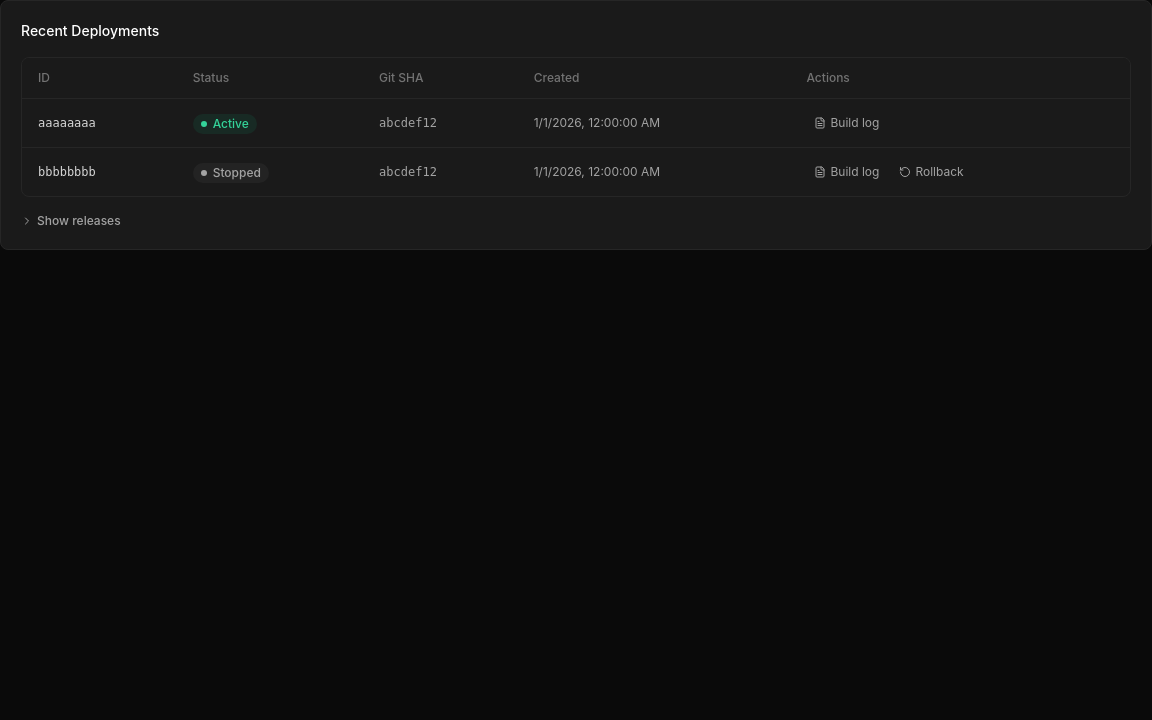
Test: DeploymentsCard › expands one deployment row at a time to show its build log
expect the text "aaaaaaaa" is shown: met, box [22,98,177,148]
Click the button "Build log" in the row of "aaaaaaaa": (847, 123) [806,111,888,135]
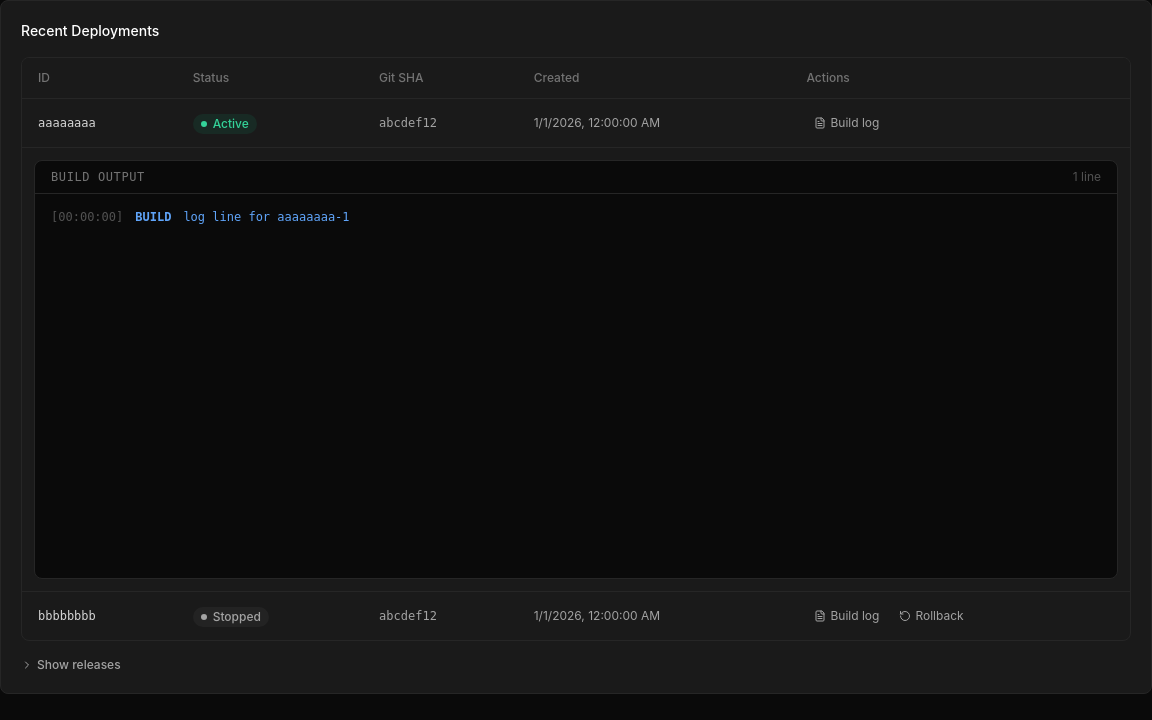
expect the text "log line for aaaaaaaa-1" is shown: met, box [183,208,350,228]
Click the button "Build log" in the row of "bbbbbbbb": (847, 616) [806,604,888,628]
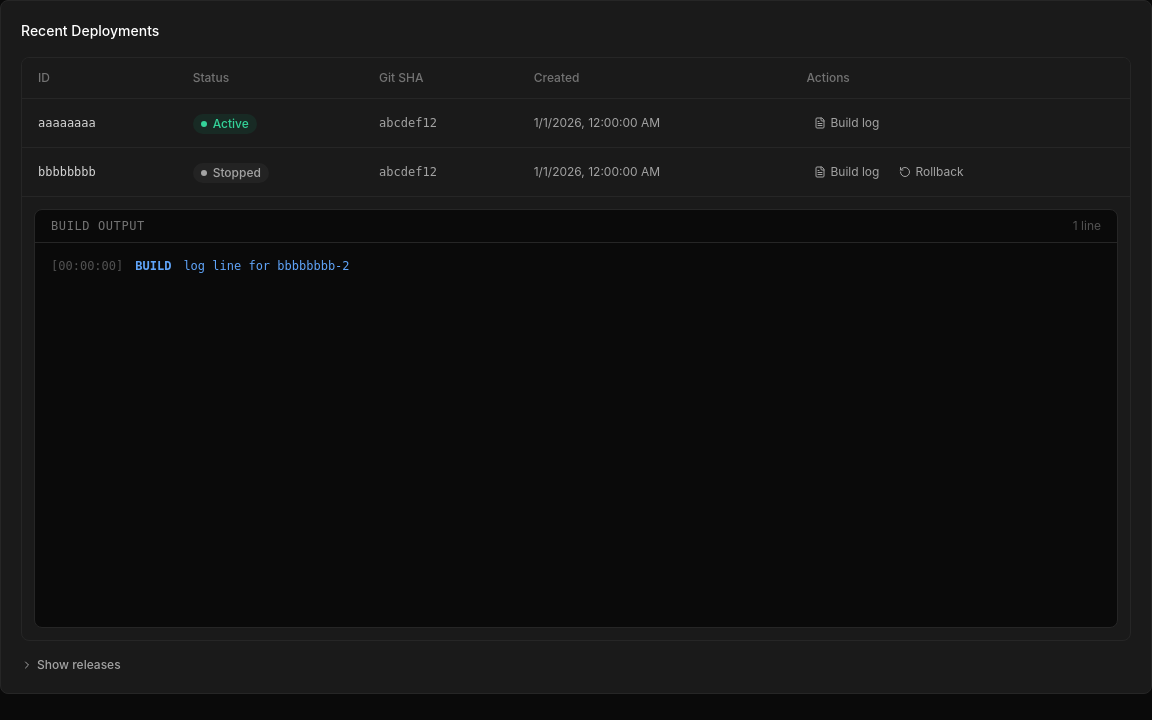
expect the text "log line for bbbbbbbb-2" is shown: met, box [183,257,350,276]
expect the text "log line for aaaaaaaa-1" is gone: met
Click the button "Build log" in the row of "stopped": (847, 172) [806,160,888,184]
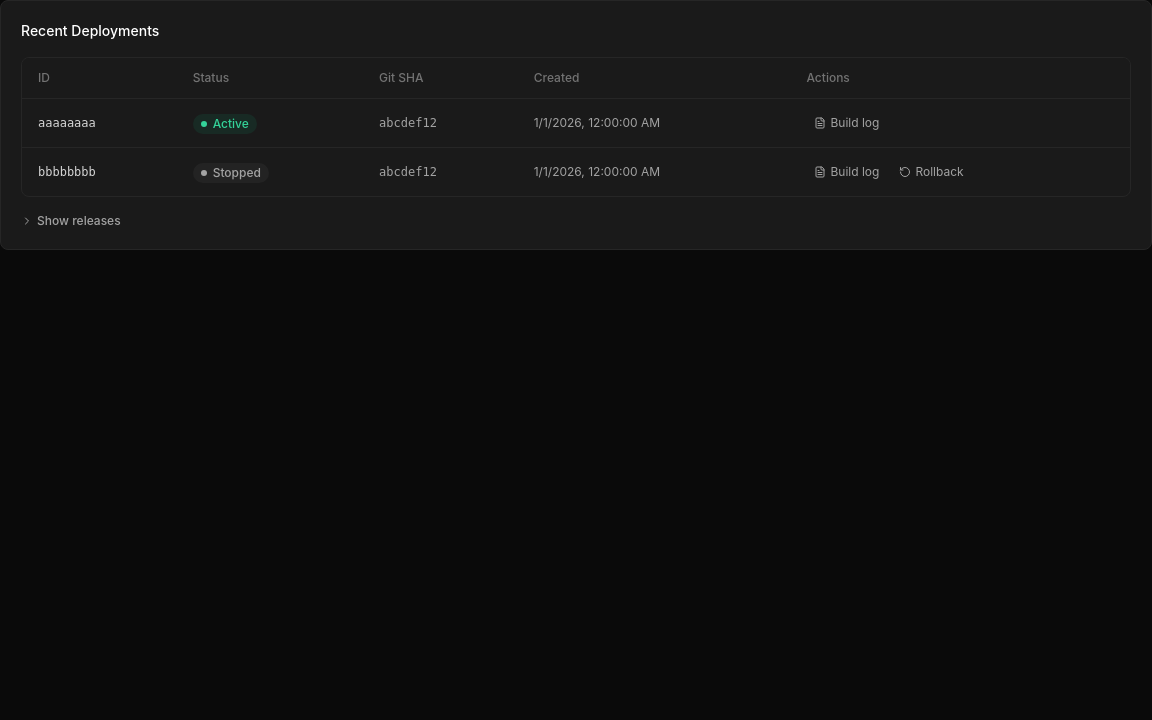
expect the text "log line for bbbbbbbb-2" is gone: met
